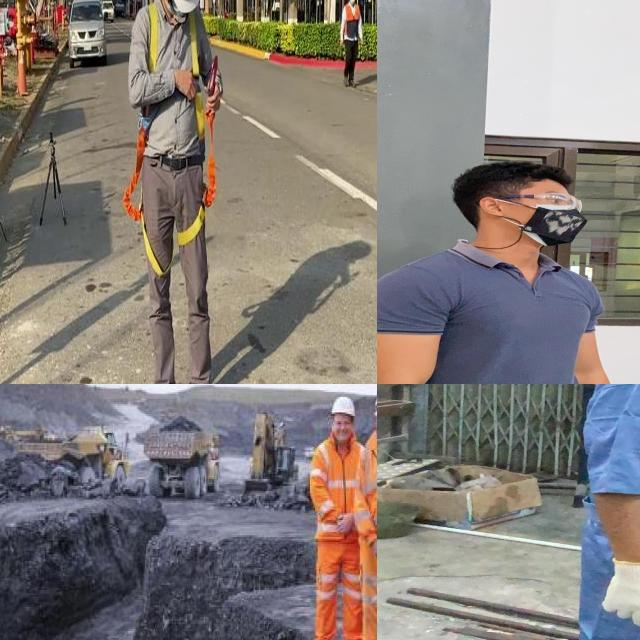Harness: (124, 129, 169, 278), (178, 112, 216, 248)
face_mask: (515, 189, 593, 243)
face_nomask: (330, 418, 353, 439)
glasses: (486, 189, 586, 214)
hand_glove: (594, 552, 640, 629)
hand_noglove: (331, 509, 356, 538), (368, 535, 377, 559)
head_helmet: (328, 394, 358, 417)
head_nohelmet: (451, 157, 576, 195)
person: (377, 156, 640, 384), (567, 384, 640, 640), (309, 396, 376, 640), (356, 386, 377, 640)
